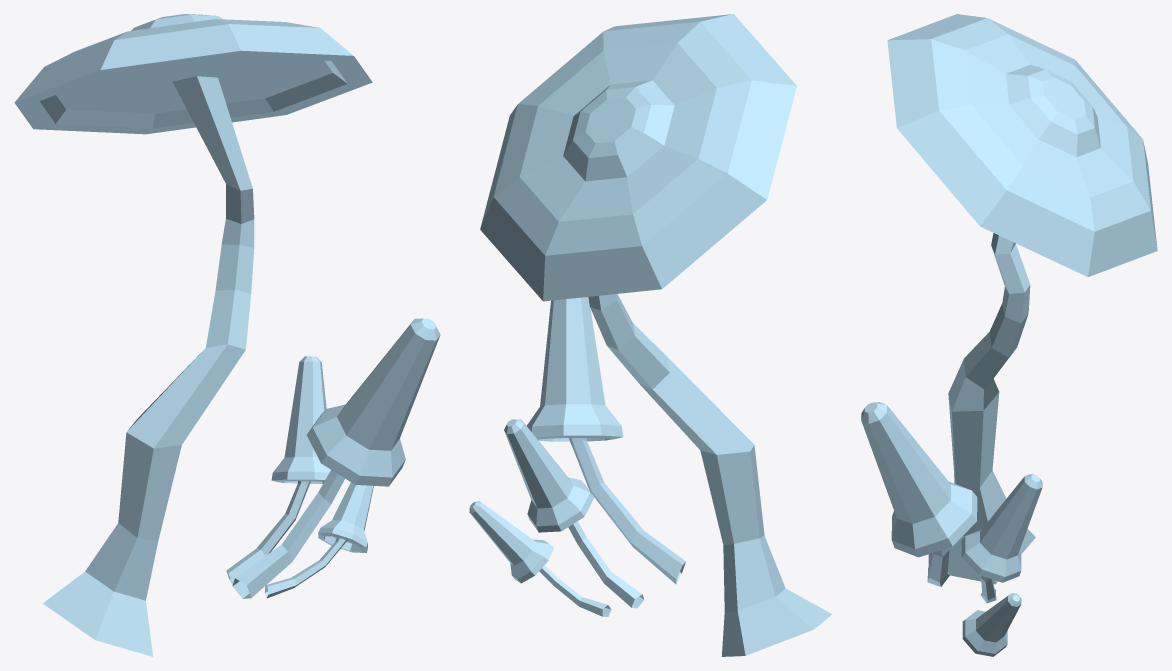
The model's file is Mushrooms_03.fbx.
The picture shows the model from 3 angles, left to right: view 1: azimuth 30°, elevation 25°; view 2: azimuth 150°, elevation 25°; view 3: azimuth 270°, elevation 25°; orthographic projection. The views are drawn at different scales.
Visible parts, largest first — view 1: Mushrooms_03; view 2: Mushrooms_03; view 3: Mushrooms_03.
Boxes of the visible parts, bbox=[...] form: Mushrooms_03: bbox=[14, 14, 440, 656]; Mushrooms_03: bbox=[469, 14, 832, 656]; Mushrooms_03: bbox=[861, 14, 1157, 656].
Size of the model in its own units: 0.621 by 0.4994 by 1.06.
